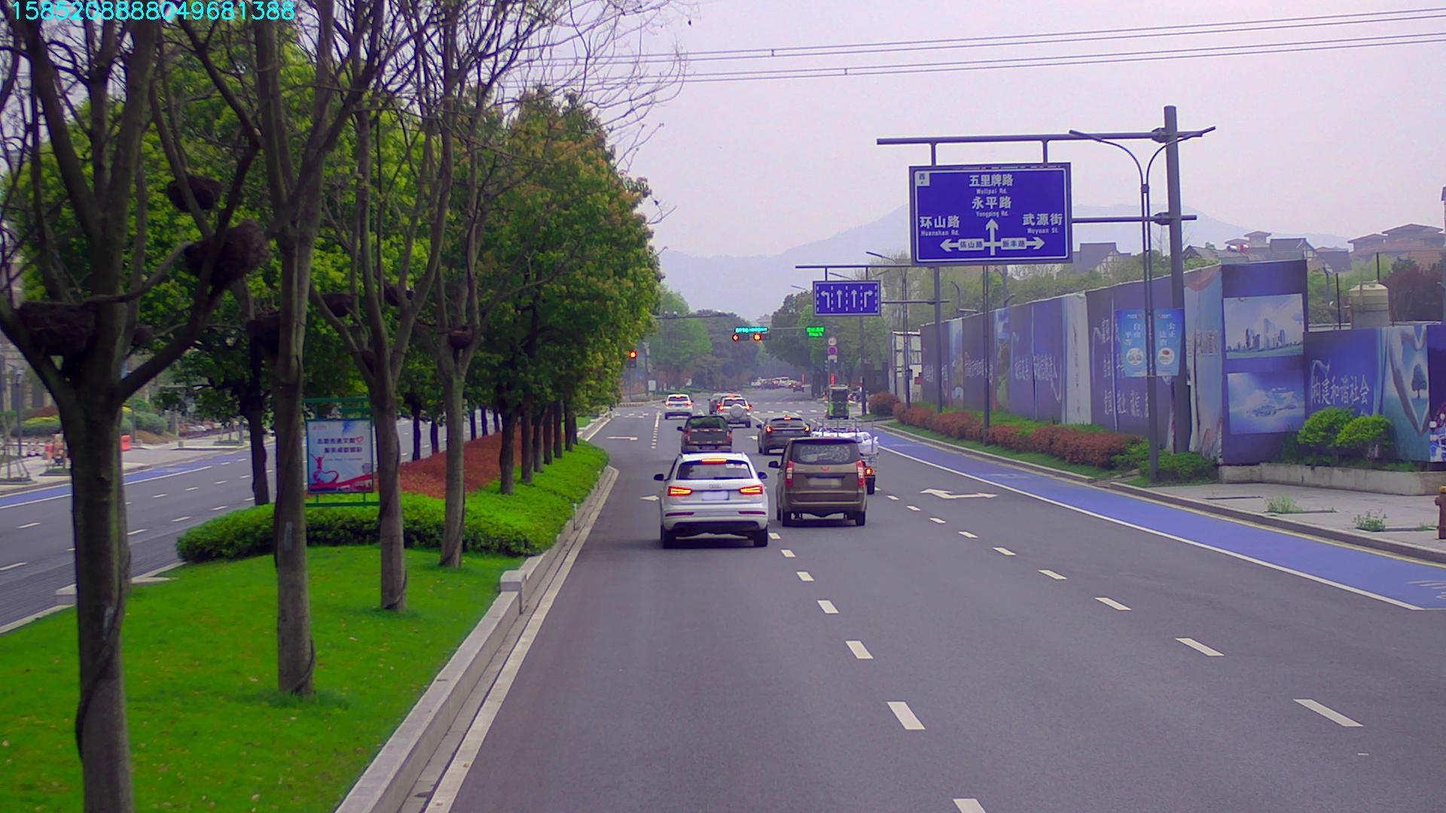red: (751, 333, 769, 340), (728, 334, 743, 341)
wait_on: (733, 324, 768, 333)
